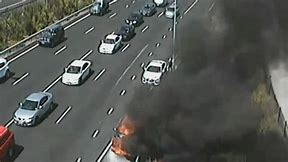smoke: (135, 1, 288, 162)
